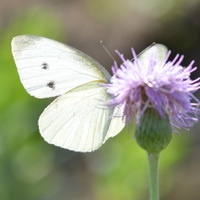insect: (11, 35, 199, 154), (11, 35, 124, 151), (11, 35, 124, 151)
